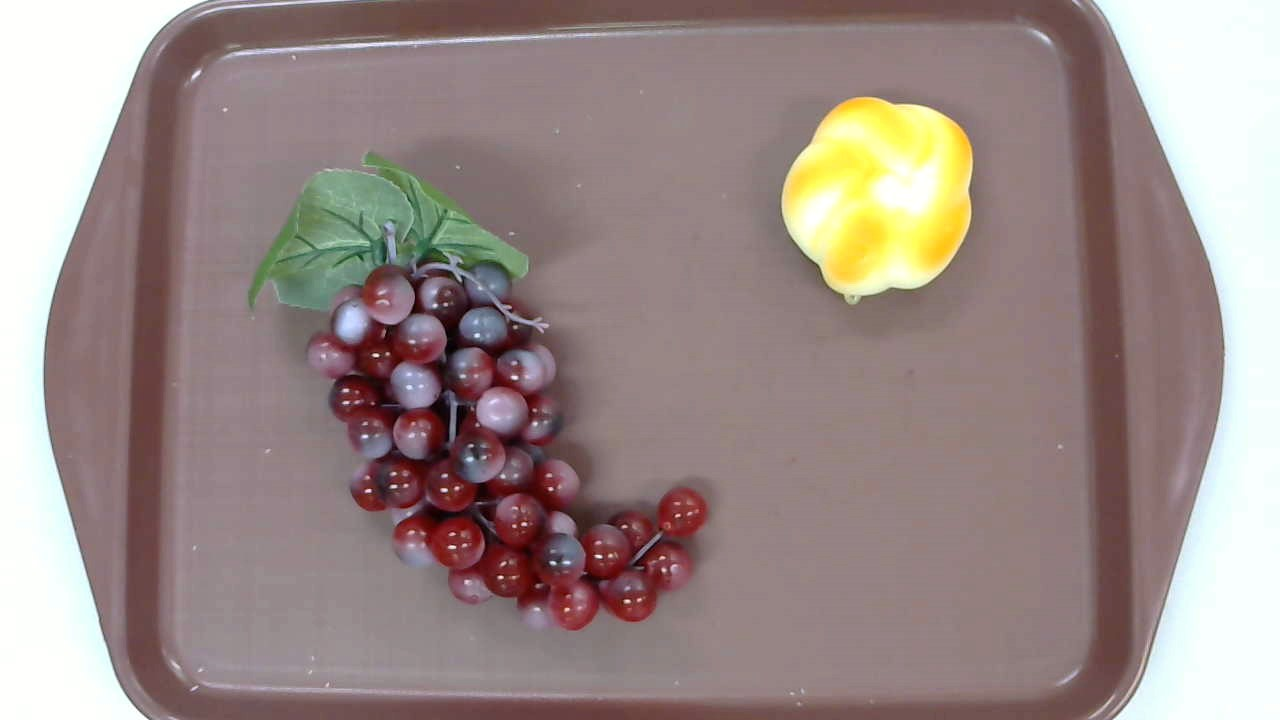grape: (247, 150, 709, 632)
twist bread: (780, 96, 973, 305)
